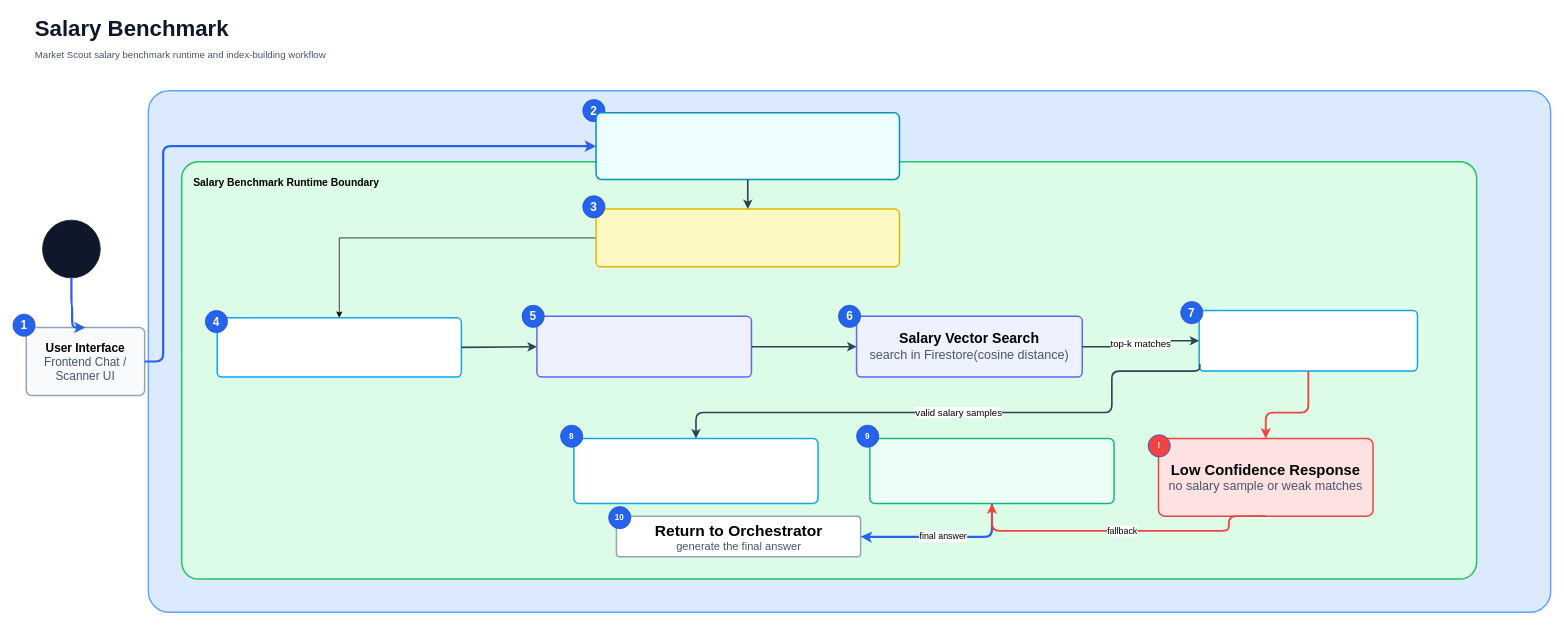
This 1564x625 diagram has some shape labels left out. Each missing label, with the centre of its shape:
"Market Scout API MarketScoutAgent on Cloud Run" goes at (747,146).
"Query Embedding use Vertex AI" goes at (644,346).
"Route to Salary Benchmark intent=salary_benchmark" goes at (747,237).
"Salary Answer Summary Gemini flash 2.5" goes at (991,470).
"Salary Match Filtering salary + location + experience filters" goes at (1308,340).
"Salary Query Normalize extract job_title, location, experience, currency" goes at (339,347).
"Salary Range Aggregation mean(min_salary) to mean(max_salary)" goes at (695,470).
"User" goes at (71,248).
